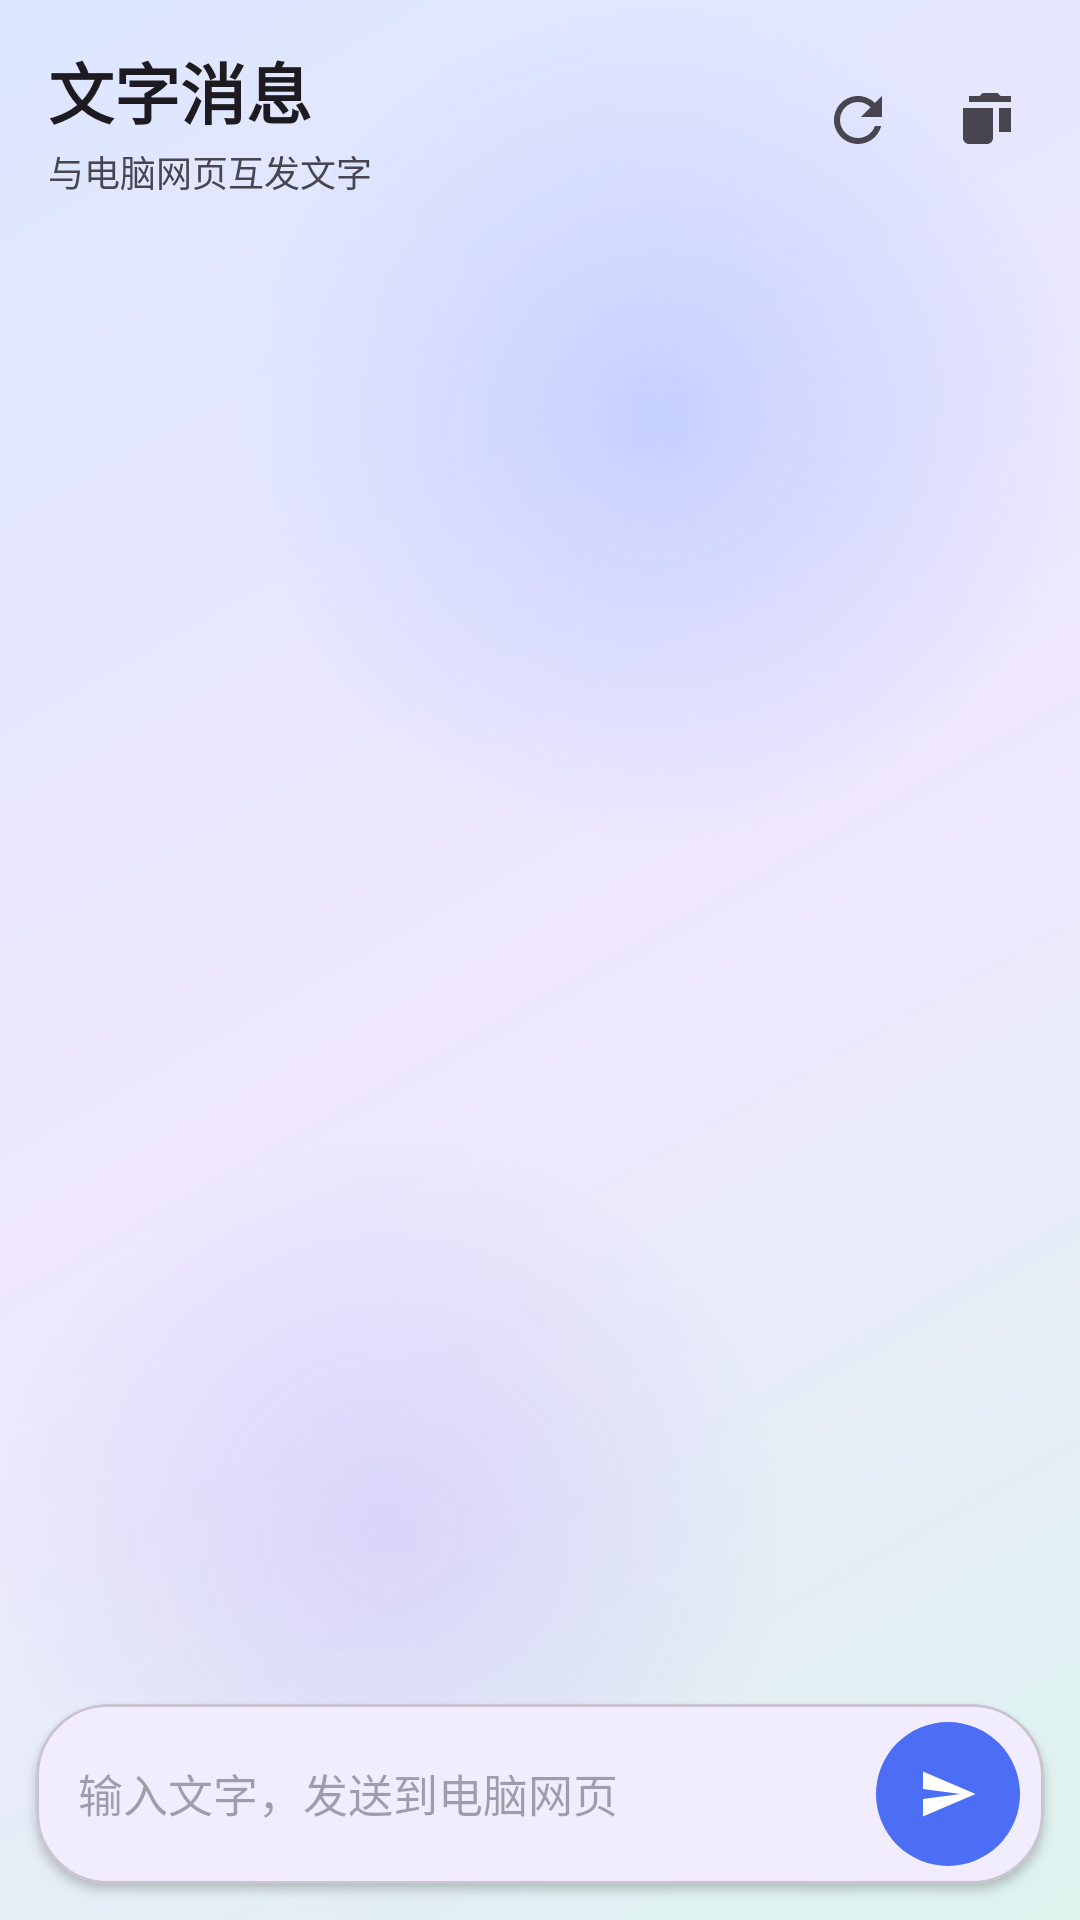

Where icons sit on this 1080×1920 app screen, as (x1, y1, x2, y2):
刷新: (834, 96, 882, 144)
清空消息: (963, 93, 1011, 144)
